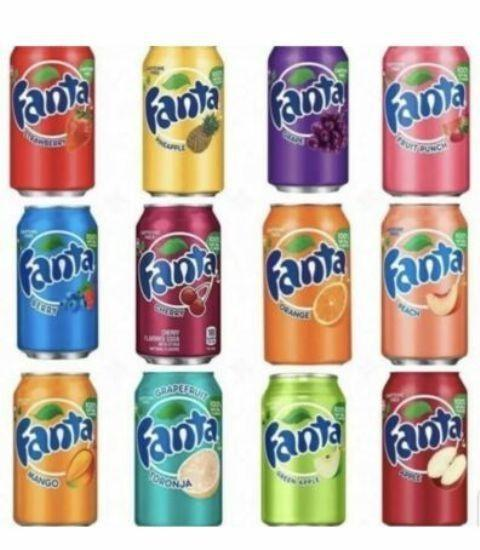tin can: (260, 195, 355, 367), (377, 197, 472, 366), (131, 364, 226, 530), (132, 197, 224, 367), (377, 40, 473, 201), (9, 364, 101, 530), (378, 364, 470, 530), (138, 35, 229, 200), (257, 368, 349, 530), (6, 38, 98, 199), (13, 197, 102, 361), (264, 40, 352, 194)
